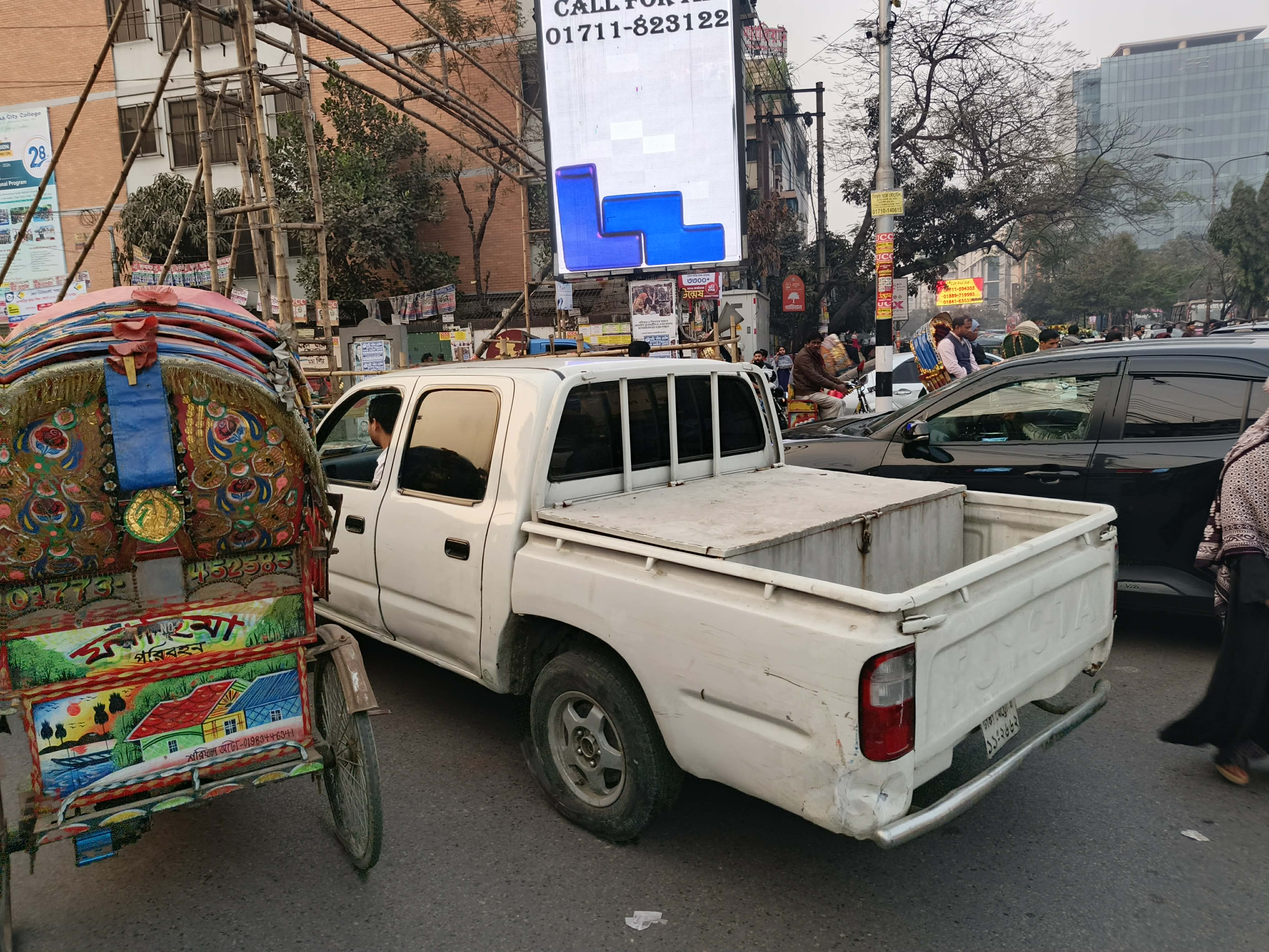Pickup: (315, 341, 1129, 850)
auto-ricksaw: (0, 279, 401, 884)
